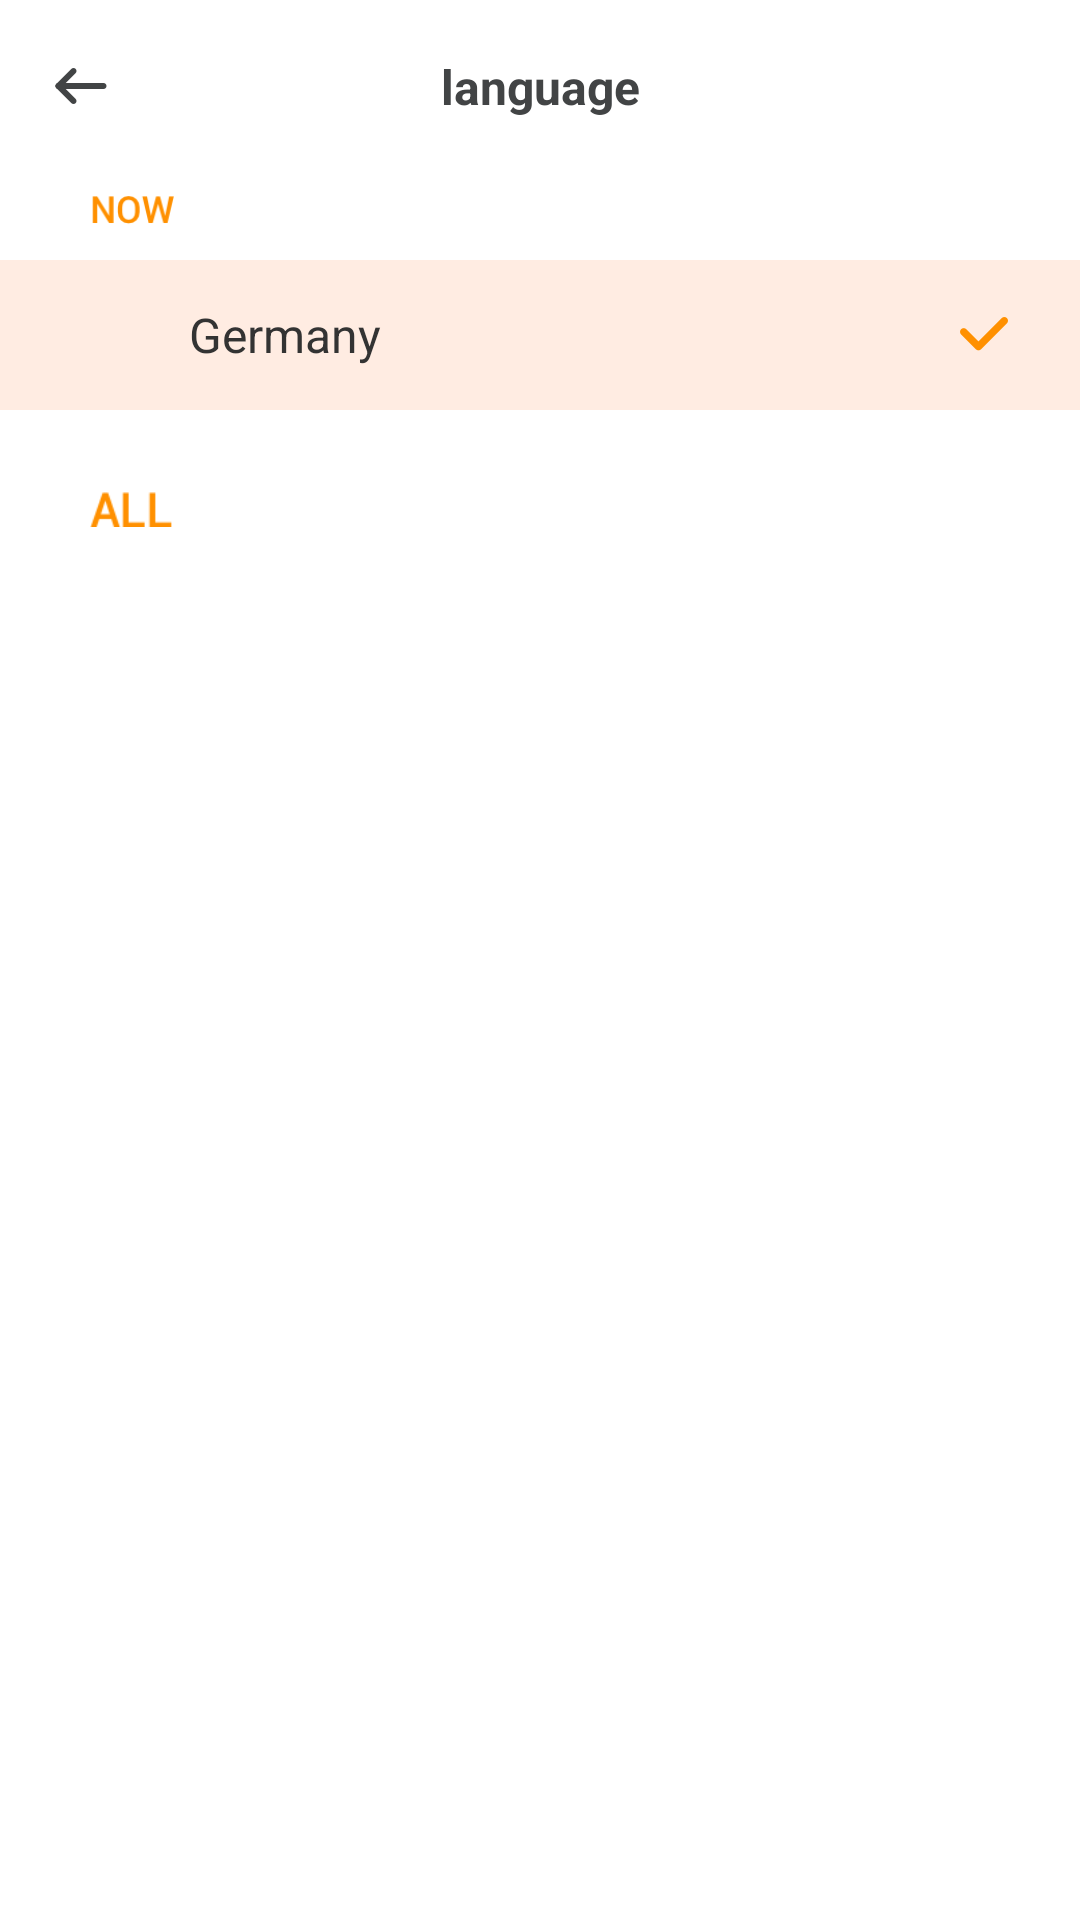

Where to tap for icons on this 1080x1920 app screen, as point (x, y):
back: point (81, 86)
